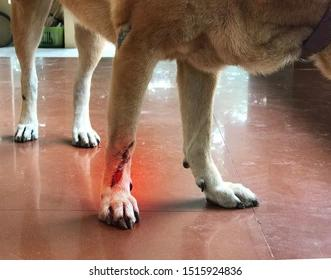bleeding: (105, 137, 133, 195)
